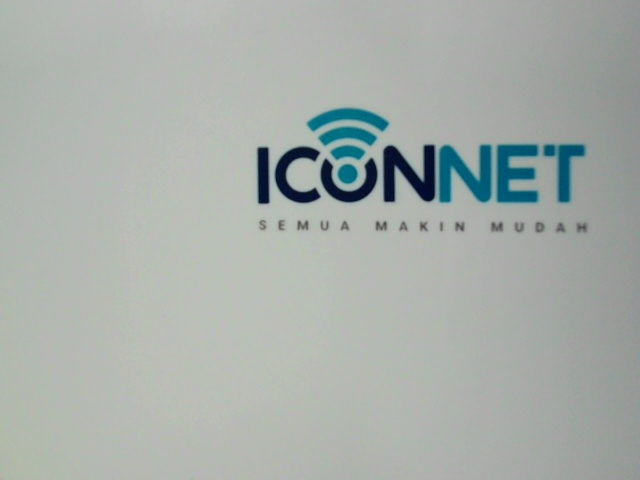BM_ICONNET: (226, 90, 607, 247)
